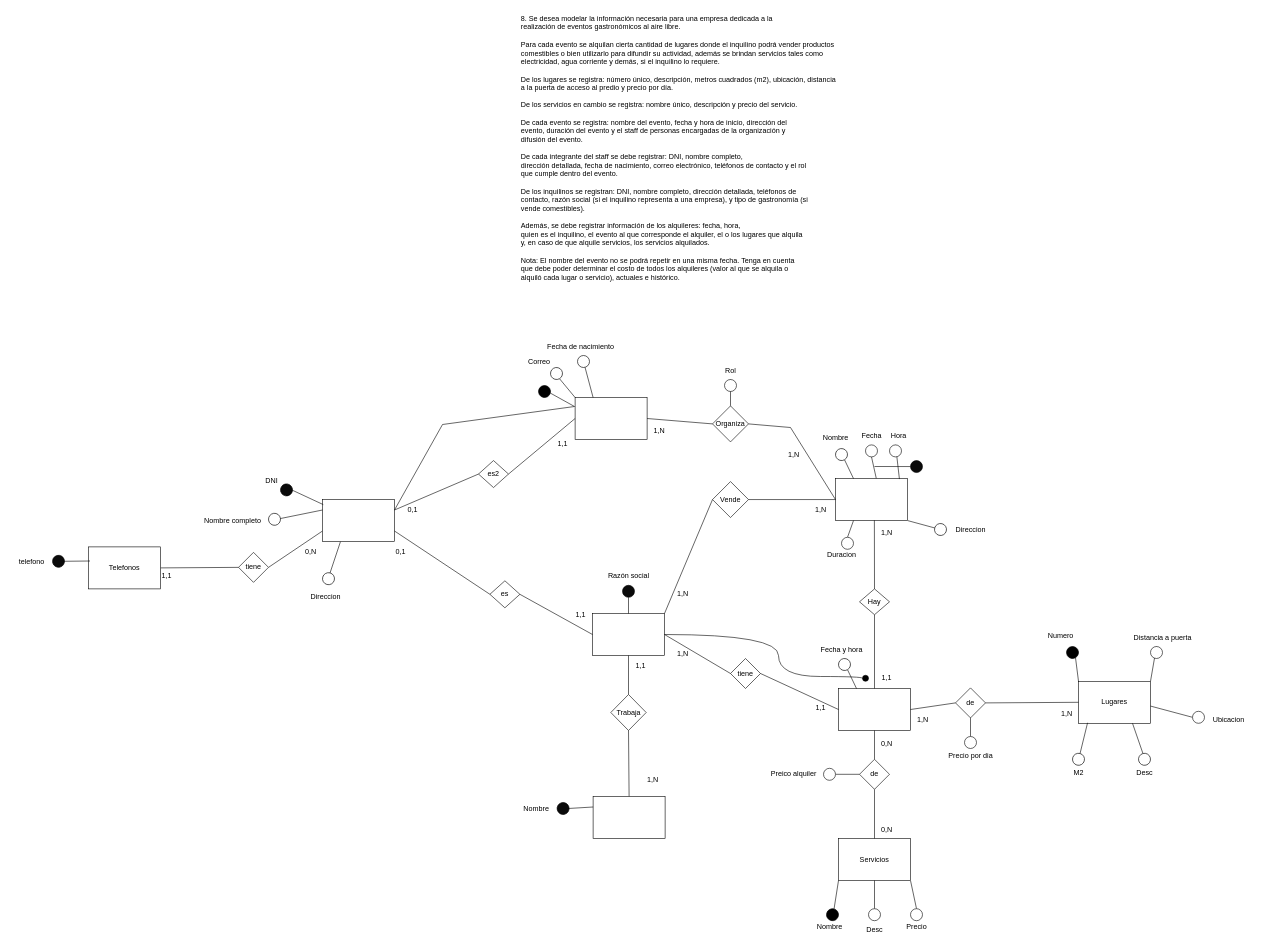
This 1262x949 diagram has some shape labels left out. The box of each missing label's shape, as (x1, y1, x2, y2) in pixels:
Alquileres: (838, 688, 910, 730)
Eventos: (835, 478, 908, 521)
Gastronomias: (592, 796, 665, 838)
Inquilinos: (592, 613, 664, 656)
Personas: (322, 499, 394, 542)
Staffs: (574, 397, 647, 440)
